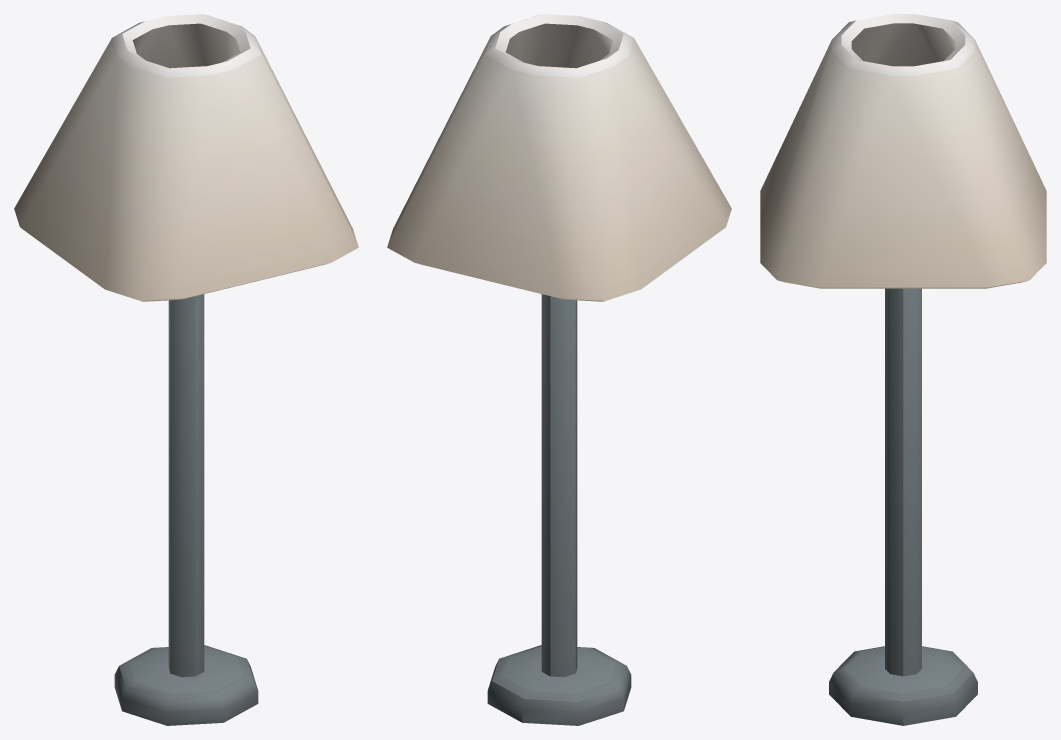
Rendered from lamp.glb.
The picture shows the model from 3 angles, left to right: view 1: azimuth 30°, elevation 25°; view 2: azimuth 150°, elevation 25°; view 3: azimuth 270°, elevation 25°; orthographic projection.
Parts seen in each view (by area): view 1: lamp_standing; view 2: lamp_standing; view 3: lamp_standing.
Part boxes in pixels (x1=…): lamp_standing: x1=14, y1=14, x2=358, y2=725; lamp_standing: x1=387, y1=14, x2=731, y2=725; lamp_standing: x1=760, y1=14, x2=1046, y2=725.
Bounding box in the file's own units: 1 × 2.52 × 1.
Materials: 1 (1 with a texture image).
